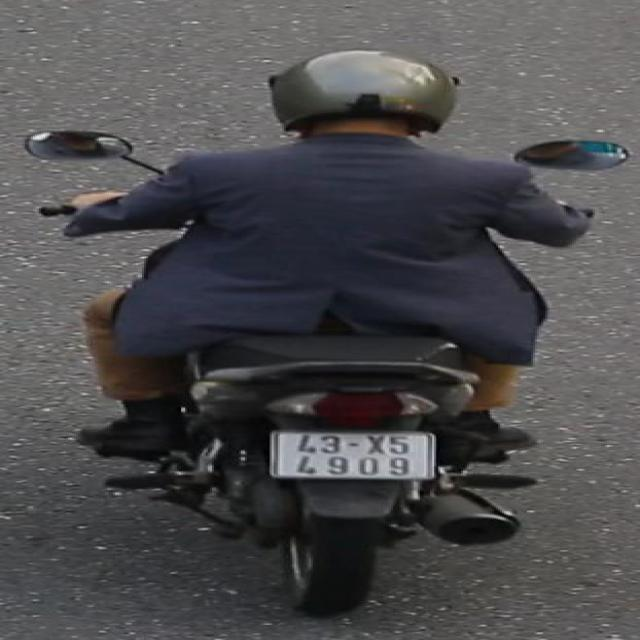LP: (256, 422, 454, 490)
helmet: (256, 49, 468, 135)
